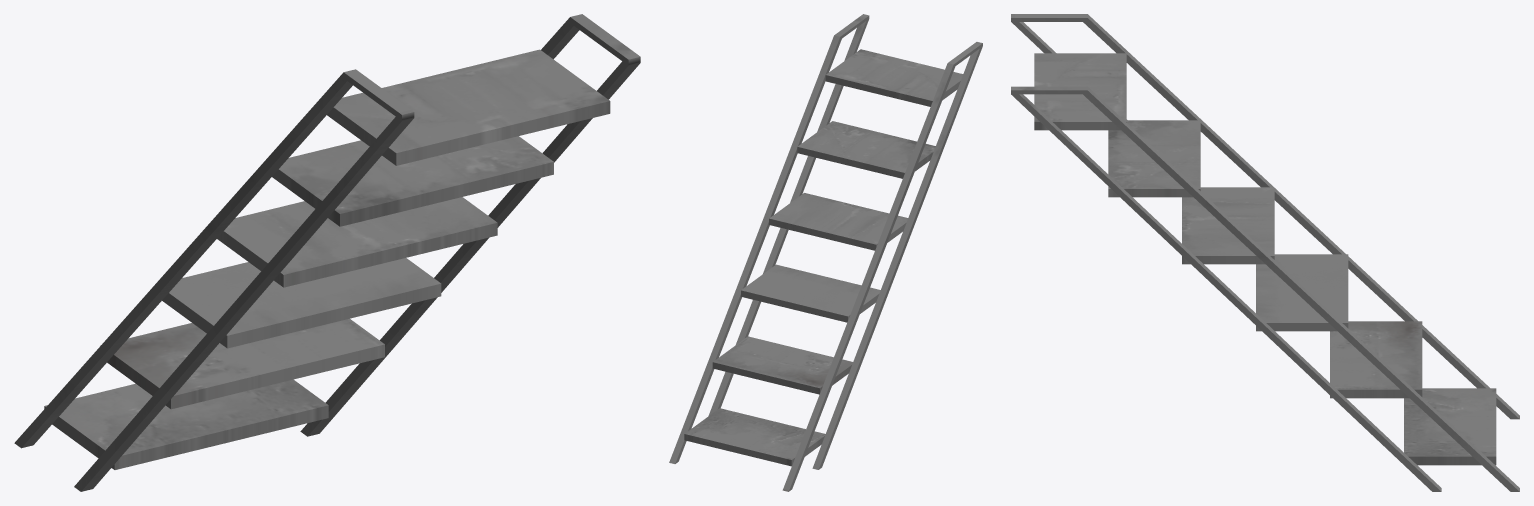
The model's file is BgMD_Stairs_0201.fbx.
3 renders of one model, left to right at view 1: azimuth 30°, elevation 25°; view 2: azimuth 150°, elevation 25°; view 3: azimuth 270°, elevation 25°, orthographic. The views are drawn at different scales.
Parts seen in each view (by area): view 1: pCube207; view 2: pCube207; view 3: pCube207.
Part boxes in pixels (bbox=[...]): pCube207: bbox=[14, 14, 640, 491]; pCube207: bbox=[669, 14, 982, 491]; pCube207: bbox=[1011, 14, 1519, 491].
Bounding box in the file's own units: 196 × 480 × 551.
